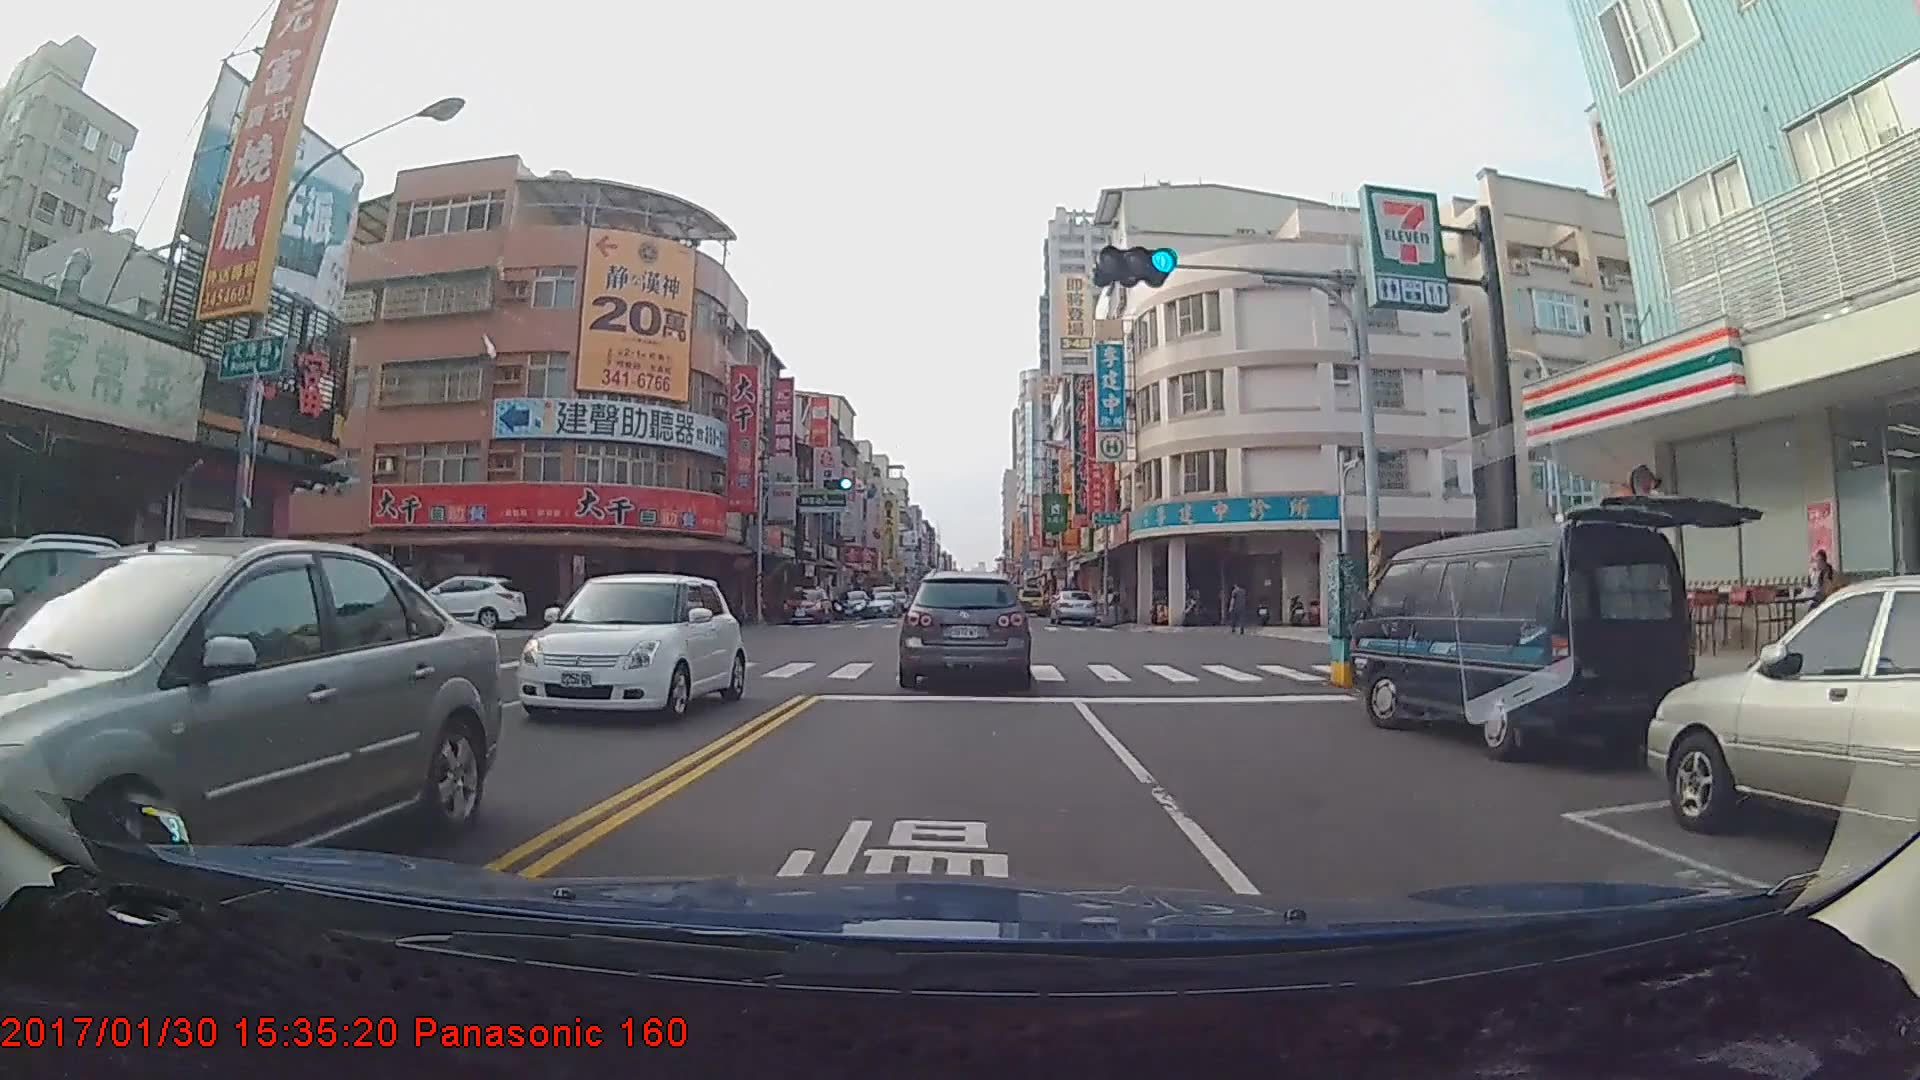pedestrian: (1229, 584, 1251, 638)
vehicle: (0, 533, 500, 904), (1342, 513, 1709, 767), (1652, 579, 1918, 893), (523, 568, 748, 726), (903, 568, 1029, 685), (398, 574, 524, 629), (779, 586, 828, 624), (1049, 588, 1097, 627), (833, 590, 872, 618), (1012, 583, 1045, 613), (865, 590, 901, 617)
